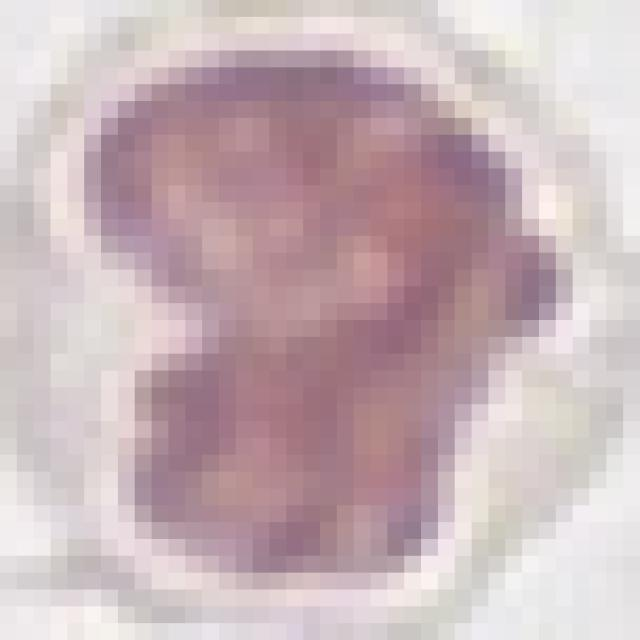cytoplasm: (0, 2, 623, 623)
nucleus: (86, 45, 571, 591)
